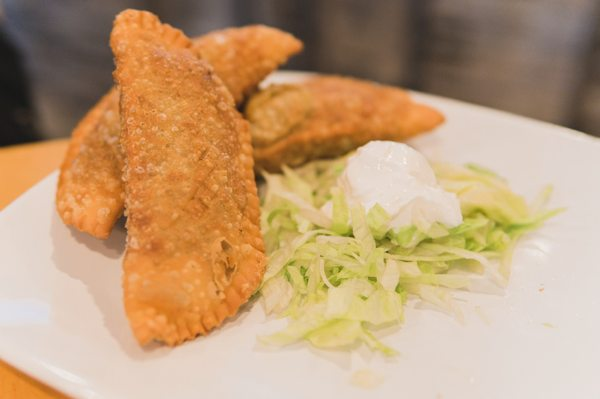soup: (44, 13, 469, 365), (56, 10, 288, 350)
